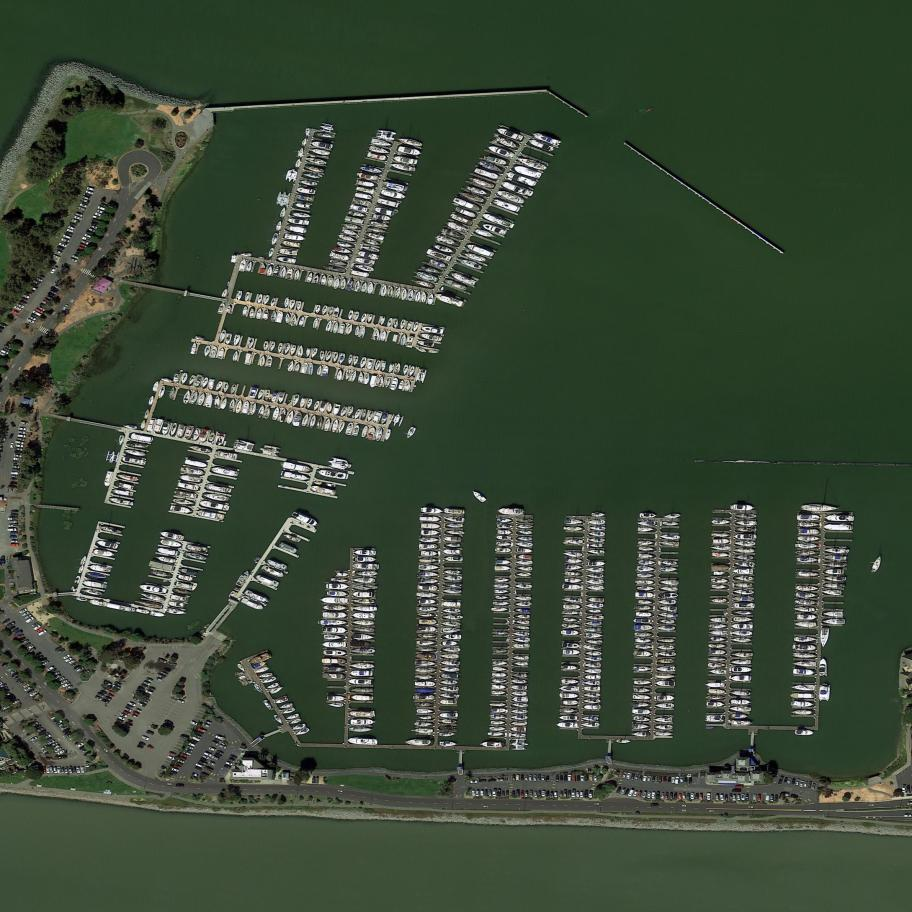ship: (500, 180, 535, 199), (505, 170, 538, 190), (515, 154, 549, 172), (448, 269, 479, 288), (495, 125, 526, 144), (511, 163, 543, 181), (291, 510, 320, 529), (481, 212, 513, 229), (433, 292, 465, 309), (495, 189, 526, 206), (465, 243, 496, 260), (487, 143, 516, 160), (453, 196, 482, 213), (243, 588, 270, 606), (531, 131, 561, 147), (492, 134, 520, 151), (491, 197, 520, 213), (455, 256, 483, 272), (326, 455, 354, 471), (414, 268, 441, 284), (527, 137, 554, 153), (477, 159, 505, 174), (468, 176, 496, 191), (282, 461, 312, 475), (281, 469, 311, 483), (459, 189, 485, 205), (448, 212, 474, 228), (239, 596, 265, 612), (317, 468, 349, 481), (198, 499, 230, 512), (249, 650, 273, 667), (461, 250, 488, 265), (426, 248, 453, 263), (195, 509, 226, 522), (260, 564, 286, 579), (265, 557, 289, 573), (481, 222, 508, 236), (137, 583, 168, 595), (474, 167, 500, 181), (800, 503, 840, 512), (234, 568, 252, 588), (380, 188, 407, 201), (445, 220, 470, 234), (255, 574, 280, 588), (410, 277, 435, 291), (433, 241, 456, 256), (443, 279, 469, 292), (393, 154, 419, 167), (474, 227, 498, 241), (435, 234, 459, 248), (397, 135, 425, 147), (211, 466, 239, 478), (204, 483, 232, 495), (381, 181, 408, 193), (202, 492, 229, 504), (440, 227, 463, 241), (233, 439, 256, 453), (869, 554, 885, 574), (391, 162, 417, 174), (357, 249, 381, 262), (258, 444, 282, 457), (310, 485, 336, 497), (137, 591, 165, 602), (465, 185, 490, 197), (398, 145, 423, 157), (133, 599, 163, 609), (214, 449, 239, 461), (455, 206, 478, 219), (159, 530, 186, 541), (278, 541, 299, 555), (471, 487, 488, 504), (484, 154, 508, 166), (376, 197, 400, 209), (360, 164, 384, 176), (275, 190, 291, 208), (420, 263, 442, 276), (329, 251, 352, 263), (366, 151, 389, 163), (160, 538, 183, 550), (420, 325, 445, 336), (82, 579, 107, 590), (121, 456, 146, 467), (389, 411, 404, 429), (419, 332, 443, 343), (353, 262, 377, 273), (357, 171, 381, 182), (354, 178, 376, 190), (185, 544, 209, 555), (181, 466, 205, 477), (107, 603, 136, 612), (428, 257, 448, 270), (370, 138, 393, 149), (96, 540, 119, 551), (414, 367, 428, 385), (87, 564, 112, 574), (107, 497, 134, 506), (366, 225, 388, 236), (369, 145, 391, 156), (336, 233, 358, 244), (157, 546, 179, 557), (177, 481, 199, 492), (175, 489, 197, 500), (819, 627, 830, 649), (284, 224, 308, 234), (284, 233, 308, 243), (352, 197, 372, 209), (282, 532, 302, 544), (348, 738, 378, 746), (184, 459, 208, 469), (130, 433, 154, 443), (353, 562, 379, 571), (355, 256, 376, 267), (365, 231, 386, 242), (376, 129, 397, 140), (341, 221, 362, 232), (155, 554, 176, 565), (311, 141, 334, 151), (287, 217, 310, 227), (184, 551, 207, 561), (111, 488, 134, 498), (117, 473, 140, 483), (179, 474, 202, 484), (124, 448, 147, 458), (169, 505, 192, 515), (323, 264, 346, 274), (497, 507, 525, 515), (284, 168, 298, 184), (314, 131, 336, 141), (306, 156, 328, 166), (374, 206, 394, 217), (348, 209, 368, 220), (101, 525, 123, 535), (150, 569, 172, 579), (114, 481, 136, 491), (172, 497, 194, 507), (102, 470, 114, 488), (126, 441, 150, 450), (319, 122, 337, 134), (819, 684, 831, 702), (296, 186, 317, 196), (276, 255, 297, 265), (332, 246, 353, 256), (350, 269, 371, 279), (105, 449, 119, 464), (824, 515, 854, 522), (509, 739, 528, 750), (355, 191, 374, 202), (322, 657, 348, 665), (322, 596, 348, 604), (404, 425, 417, 441), (93, 549, 116, 558), (318, 619, 347, 626), (824, 524, 853, 531), (281, 239, 301, 249), (279, 247, 299, 257), (372, 213, 392, 223), (370, 219, 390, 229), (356, 185, 376, 195), (88, 598, 108, 608), (322, 626, 347, 634), (348, 678, 373, 686), (309, 148, 331, 157), (304, 165, 326, 174), (302, 172, 324, 181), (82, 588, 104, 597), (189, 445, 211, 454), (214, 431, 227, 446), (731, 503, 755, 511), (323, 611, 347, 619), (183, 425, 195, 441), (329, 258, 348, 268), (362, 237, 381, 247), (361, 244, 380, 254), (404, 739, 431, 746), (176, 423, 187, 440), (191, 426, 202, 443), (294, 727, 311, 738), (734, 533, 757, 541), (323, 672, 346, 680), (480, 741, 506, 748), (321, 641, 347, 648), (350, 718, 376, 725), (341, 228, 359, 238), (336, 240, 354, 250), (165, 608, 187, 616), (199, 428, 210, 444), (153, 418, 164, 434), (353, 584, 378, 591), (323, 649, 348, 656), (349, 663, 374, 670), (792, 661, 817, 668), (350, 204, 369, 213), (180, 567, 199, 576), (292, 410, 302, 427), (555, 722, 579, 729), (353, 605, 377, 612), (792, 644, 816, 651), (791, 684, 815, 691), (160, 421, 171, 436), (188, 390, 199, 405), (417, 340, 435, 349), (730, 623, 753, 630), (353, 550, 376, 557), (353, 556, 376, 563), (353, 612, 376, 619), (351, 634, 374, 641), (420, 506, 443, 513), (352, 648, 375, 655), (350, 670, 373, 677), (351, 694, 374, 701), (300, 179, 320, 187), (172, 588, 192, 596), (170, 594, 190, 602), (367, 425, 377, 441), (374, 427, 384, 443), (286, 409, 296, 425), (291, 722, 307, 732), (268, 686, 284, 696), (413, 694, 435, 701), (414, 660, 436, 667), (729, 690, 751, 697), (731, 630, 753, 637), (730, 637, 752, 644), (417, 584, 439, 591), (419, 543, 441, 550), (323, 634, 345, 641), (794, 636, 816, 643), (373, 410, 384, 424), (193, 374, 204, 388), (275, 696, 289, 707), (263, 698, 274, 712), (176, 581, 193, 590), (351, 598, 376, 604), (349, 711, 374, 717), (349, 726, 374, 732), (291, 393, 301, 408), (169, 422, 179, 437), (379, 411, 389, 426), (330, 418, 340, 433), (182, 390, 192, 405), (204, 393, 214, 408), (824, 548, 849, 554), (218, 329, 228, 344), (792, 652, 817, 658), (790, 693, 815, 699), (389, 377, 399, 392), (262, 676, 277, 686), (736, 520, 757, 527), (799, 528, 820, 535), (734, 561, 755, 568), (732, 568, 753, 575), (732, 651, 753, 658), (419, 564, 440, 571), (291, 212, 312, 219), (86, 572, 107, 579), (793, 669, 814, 676), (823, 611, 844, 618), (795, 585, 819, 591), (296, 194, 314, 202), (350, 687, 374, 693), (326, 584, 350, 590), (793, 622, 817, 628), (823, 555, 847, 561), (819, 659, 827, 677), (254, 666, 270, 675), (314, 364, 325, 377), (273, 713, 284, 726), (253, 682, 264, 695), (445, 516, 465, 523), (416, 653, 436, 660), (581, 722, 601, 729), (420, 529, 440, 536), (405, 335, 415, 349), (797, 614, 817, 621), (824, 568, 844, 575), (286, 359, 296, 373), (368, 375, 378, 389), (358, 356, 368, 370), (209, 345, 219, 359), (729, 706, 752, 712), (729, 720, 752, 726), (797, 515, 820, 521), (798, 536, 821, 542), (796, 543, 819, 549), (795, 592, 818, 598), (794, 600, 817, 606), (731, 596, 754, 602), (324, 604, 347, 610), (793, 606, 816, 612), (825, 562, 848, 568), (790, 701, 813, 707), (822, 619, 845, 625), (168, 601, 185, 609), (301, 412, 310, 427), (272, 406, 281, 421), (278, 408, 287, 423), (285, 712, 300, 721), (281, 707, 296, 716), (279, 702, 294, 711), (512, 643, 531, 650), (561, 642, 580, 649), (562, 649, 581, 656), (564, 551, 583, 558), (708, 689, 727, 696), (705, 715, 724, 722), (732, 675, 751, 682), (660, 592, 679, 599), (632, 709, 651, 716), (823, 589, 842, 596), (417, 592, 439, 598), (796, 557, 818, 563), (659, 534, 681, 540), (353, 627, 375, 633), (353, 620, 375, 626), (324, 666, 346, 672), (245, 260, 255, 273), (414, 345, 427, 355), (248, 386, 258, 399), (172, 371, 182, 384), (300, 361, 310, 374), (321, 365, 331, 378), (295, 202, 311, 210), (177, 574, 193, 582), (258, 672, 274, 680), (515, 541, 533, 548), (561, 664, 579, 671), (444, 508, 465, 514), (446, 529, 464, 536), (443, 556, 464, 562), (442, 575, 463, 581), (417, 626, 438, 632), (443, 627, 461, 634), (439, 699, 457, 706), (736, 513, 757, 519), (655, 673, 676, 679), (655, 681, 676, 687), (735, 527, 756, 533), (735, 541, 756, 547), (734, 589, 755, 595), (583, 704, 601, 711), (587, 597, 605, 604), (419, 516, 440, 522), (327, 590, 348, 596), (372, 328, 381, 342), (353, 407, 362, 421), (345, 422, 354, 436), (361, 425, 370, 439), (158, 385, 167, 399), (197, 392, 206, 406), (242, 400, 251, 414), (249, 402, 258, 416), (247, 336, 256, 350), (296, 344, 305, 358), (825, 576, 846, 582), (791, 709, 812, 715), (824, 582, 845, 588), (349, 369, 358, 383), (217, 346, 226, 360), (253, 661, 267, 670), (270, 233, 279, 247), (560, 686, 580, 692), (559, 693, 579, 699), (559, 700, 579, 706), (563, 597, 583, 603), (562, 584, 582, 590), (564, 519, 584, 525), (443, 588, 463, 594), (416, 647, 436, 653), (415, 681, 435, 687), (441, 601, 461, 607), (440, 660, 460, 666), (708, 630, 728, 636), (708, 643, 728, 649), (655, 703, 675, 709), (711, 532, 731, 538), (731, 659, 751, 665), (656, 666, 676, 672), (585, 567, 605, 573), (658, 567, 678, 573), (657, 606, 677, 612), (658, 612, 678, 618), (634, 625, 654, 631), (352, 578, 376, 583), (420, 523, 440, 529), (235, 399, 243, 414), (257, 404, 265, 419), (731, 713, 748, 720), (239, 259, 248, 272), (400, 288, 409, 301), (279, 266, 288, 279), (366, 282, 375, 295), (311, 317, 320, 330), (345, 323, 354, 336), (257, 388, 266, 401), (319, 401, 328, 414), (366, 410, 375, 423), (220, 397, 229, 410), (233, 334, 242, 347), (335, 369, 344, 382), (356, 371, 365, 384), (337, 353, 346, 366), (366, 358, 375, 371), (393, 362, 402, 375), (217, 302, 226, 315), (79, 554, 88, 567), (796, 550, 819, 555), (796, 572, 819, 577), (732, 603, 755, 608), (355, 571, 378, 576), (512, 637, 531, 643), (489, 714, 508, 720), (559, 715, 578, 721), (564, 525, 583, 531), (565, 558, 584, 564), (564, 564, 583, 570), (417, 633, 436, 639), (440, 673, 459, 679), (439, 712, 458, 718), (708, 649, 727, 655), (708, 662, 727, 668), (708, 669, 727, 675), (707, 695, 726, 701), (706, 701, 725, 707), (654, 725, 673, 731), (713, 519, 732, 525), (711, 538, 730, 544), (711, 552, 730, 558), (735, 575, 754, 581), (733, 617, 752, 623), (584, 656, 603, 662), (586, 579, 605, 585), (586, 585, 605, 591), (586, 603, 605, 609), (633, 666, 652, 672), (420, 537, 439, 543), (331, 577, 350, 583), (796, 730, 815, 736), (638, 526, 654, 533), (150, 611, 166, 618), (316, 416, 324, 430), (324, 417, 332, 431), (309, 414, 317, 428), (283, 342, 291, 356), (122, 423, 138, 430), (266, 682, 280, 690), (411, 728, 433, 733), (562, 623, 580, 629), (561, 679, 579, 685), (446, 523, 464, 529), (443, 549, 461, 555), (417, 640, 435, 646), (710, 584, 728, 590), (657, 695, 675, 701), (584, 668, 602, 674), (583, 686, 601, 692), (583, 692, 601, 698), (582, 716, 600, 722), (640, 512, 658, 518), (584, 663, 602, 669), (586, 615, 604, 621), (584, 627, 602, 633), (638, 566, 656, 572), (631, 724, 649, 730), (664, 513, 682, 519), (661, 560, 679, 566), (632, 731, 650, 737), (636, 592, 654, 598), (633, 702, 651, 708), (345, 279, 354, 291), (327, 696, 345, 702), (420, 551, 438, 557), (353, 325, 362, 337), (320, 304, 329, 316), (379, 330, 388, 342), (277, 392, 286, 404), (298, 397, 307, 409), (147, 420, 156, 432), (142, 408, 151, 420), (403, 380, 412, 392), (307, 363, 316, 375), (265, 356, 274, 368), (231, 350, 240, 362), (267, 247, 276, 259), (443, 615, 464, 620), (798, 522, 819, 527), (731, 700, 752, 705), (734, 548, 755, 553), (731, 667, 752, 672), (659, 541, 680, 546), (418, 572, 439, 577), (136, 608, 151, 615), (427, 293, 435, 306), (273, 265, 281, 278), (333, 277, 341, 290), (353, 280, 361, 293), (255, 307, 263, 320), (399, 333, 407, 346), (263, 389, 271, 402), (229, 382, 237, 395), (208, 430, 216, 443), (222, 381, 230, 394), (338, 421, 346, 434), (168, 386, 176, 399), (213, 395, 221, 408), (228, 398, 236, 411), (289, 718, 302, 726), (296, 147, 304, 160), (515, 583, 532, 589), (489, 726, 506, 732), (512, 697, 529, 703), (511, 721, 528, 727), (416, 674, 433, 680), (710, 636, 727, 642), (655, 717, 672, 723), (583, 680, 600, 686), (639, 520, 656, 526), (584, 675, 601, 681), (588, 561, 605, 567), (585, 621, 602, 627), (635, 644, 652, 650), (635, 651, 652, 657), (414, 722, 434, 727), (443, 582, 463, 587), (418, 606, 438, 611), (416, 667, 436, 672), (350, 642, 370, 647), (440, 667, 460, 672), (711, 545, 731, 550), (582, 699, 602, 704), (419, 579, 439, 584), (352, 592, 372, 597), (237, 662, 246, 673), (513, 655, 529, 661), (511, 685, 527, 691), (492, 672, 508, 678), (491, 606, 507, 612), (589, 531, 605, 537), (636, 612, 652, 618), (394, 287, 402, 299), (407, 290, 415, 302), (387, 286, 395, 298), (259, 263, 267, 275), (380, 285, 388, 297), (286, 268, 294, 280), (307, 272, 315, 284), (320, 274, 328, 286), (340, 278, 348, 290), (360, 281, 368, 293), (338, 323, 346, 335), (325, 320, 333, 332), (276, 311, 284, 323), (262, 309, 270, 321), (332, 321, 340, 333), (332, 404, 340, 416), (347, 405, 355, 417), (360, 409, 368, 421), (180, 373, 188, 385), (188, 374, 196, 386), (201, 377, 209, 389), (215, 380, 223, 392), (352, 424, 360, 436), (384, 429, 392, 441), (152, 380, 160, 392), (225, 333, 233, 345), (262, 339, 270, 351), (277, 342, 285, 354), (311, 347, 319, 359), (363, 373, 371, 385), (376, 376, 384, 388), (245, 353, 253, 365), (352, 355, 360, 367), (408, 365, 416, 377), (279, 207, 287, 219), (275, 220, 283, 232), (563, 604, 582, 609), (587, 520, 606, 525), (565, 539, 584, 544), (443, 608, 462, 613), (418, 620, 437, 625), (416, 688, 435, 693), (438, 741, 457, 746), (442, 621, 461, 626), (439, 693, 458, 698), (708, 624, 727, 629), (655, 732, 674, 737), (658, 652, 677, 657), (584, 633, 603, 638), (660, 580, 679, 585), (660, 586, 679, 591), (658, 599, 677, 604), (294, 269, 301, 282), (327, 275, 334, 288), (160, 377, 173, 384), (204, 345, 211, 358), (514, 631, 529, 637), (490, 708, 508, 713), (559, 708, 577, 713), (510, 727, 528, 732), (511, 732, 526, 738), (564, 578, 582, 583), (415, 702, 433, 707), (443, 647, 461, 652), (440, 680, 458, 685), (710, 617, 725, 623), (711, 578, 729, 583), (711, 565, 729, 570), (657, 659, 675, 664), (735, 555, 753, 560), (734, 610, 752, 615), (614, 739, 632, 744), (638, 553, 653, 559), (638, 560, 656, 565), (585, 639, 603, 644), (584, 646, 602, 651), (657, 645, 675, 650), (660, 619, 675, 625), (657, 626, 675, 631), (638, 599, 653, 605), (635, 605, 653, 610), (634, 619, 652, 624), (633, 695, 651, 700), (74, 597, 89, 603), (420, 292, 428, 303), (386, 317, 394, 328), (366, 313, 374, 324), (360, 313, 368, 324), (313, 274, 321, 285), (263, 295, 271, 306), (256, 293, 264, 304), (243, 291, 251, 302), (359, 327, 367, 338), (221, 287, 229, 298), (312, 400, 320, 411), (340, 406, 348, 417), (147, 395, 155, 406), (269, 341, 277, 352), (290, 345, 298, 356), (324, 351, 332, 362), (259, 356, 267, 367), (384, 377, 392, 388), (332, 352, 340, 363), (387, 363, 395, 374), (516, 566, 533, 571), (514, 596, 531, 601), (515, 602, 532, 607), (516, 560, 533, 565), (491, 685, 508, 690), (562, 630, 579, 635), (511, 709, 528, 714), (511, 715, 528, 720), (565, 571, 582, 576), (416, 709, 433, 714), (444, 537, 461, 542), (419, 599, 436, 604), (444, 634, 461, 639), (441, 719, 458, 724), (710, 598, 727, 603), (707, 683, 724, 688), (588, 549, 605, 554), (638, 547, 655, 552), (637, 573, 654, 578), (587, 573, 604, 578), (586, 651, 603, 656), (637, 580, 654, 585), (658, 639, 675, 644), (634, 717, 651, 722), (637, 586, 654, 591), (635, 632, 652, 637), (635, 638, 652, 643), (634, 680, 651, 685), (633, 688, 650, 693), (415, 291, 422, 303), (266, 265, 273, 277), (353, 311, 360, 323), (333, 306, 340, 318), (291, 314, 298, 326), (270, 310, 277, 322), (194, 335, 206, 342), (271, 391, 278, 403), (264, 407, 271, 419), (374, 360, 381, 372), (402, 364, 409, 376), (191, 342, 198, 354), (512, 673, 528, 678), (492, 678, 508, 683), (517, 518, 533, 523), (517, 524, 533, 529), (511, 679, 527, 684), (511, 691, 527, 696), (512, 703, 528, 708), (492, 667, 508, 672), (492, 648, 508, 653), (589, 538, 605, 543), (493, 631, 509, 636), (495, 566, 511, 571), (494, 578, 510, 583), (494, 589, 510, 594), (493, 601, 509, 606), (439, 654, 459, 658), (663, 521, 679, 526), (327, 703, 343, 708), (248, 308, 256, 318), (269, 297, 277, 307), (191, 582, 199, 592), (590, 512, 606, 517), (230, 254, 238, 264), (294, 158, 302, 168), (301, 137, 309, 147), (77, 565, 85, 575), (413, 321, 420, 332), (400, 319, 407, 330), (393, 318, 400, 329), (299, 316, 306, 327), (284, 313, 291, 324), (226, 303, 233, 314), (306, 398, 313, 409), (318, 350, 325, 361), (344, 370, 351, 381), (380, 361, 387, 372), (139, 419, 146, 430), (442, 570, 461, 574), (440, 687, 459, 691), (708, 657, 727, 661), (516, 572, 531, 577), (515, 614, 530, 619), (515, 620, 530, 625), (513, 662, 528, 667), (517, 548, 532, 553), (491, 720, 506, 725), (517, 536, 532, 541), (493, 660, 508, 665), (445, 543, 460, 548), (496, 535, 511, 540), (495, 584, 510, 589), (443, 641, 458, 646), (589, 543, 604, 548), (587, 609, 602, 614), (438, 732, 456, 736), (735, 583, 753, 587), (419, 558, 437, 562), (325, 482, 337, 488), (518, 555, 532, 560), (518, 530, 532, 535), (418, 715, 432, 720), (498, 530, 512, 535), (406, 321, 413, 331), (380, 316, 387, 326), (347, 310, 354, 320), (328, 306, 335, 316), (241, 306, 248, 316), (315, 304, 322, 314), (296, 301, 303, 311), (289, 300, 296, 310), (283, 298, 290, 308), (208, 380, 215, 390), (398, 380, 405, 390), (488, 732, 505, 736), (589, 526, 606, 530), (562, 611, 579, 615), (439, 726, 456, 730), (118, 435, 124, 446), (305, 347, 311, 358), (347, 354, 353, 365), (240, 252, 253, 257), (490, 703, 506, 707), (497, 524, 513, 528), (496, 548, 512, 552), (495, 560, 511, 564), (497, 518, 513, 522), (638, 541, 654, 545), (228, 590, 235, 599), (294, 363, 301, 372), (304, 128, 311, 137), (74, 575, 81, 584), (516, 608, 531, 612), (515, 626, 530, 630), (563, 618, 578, 622), (418, 613, 433, 617), (496, 542, 511, 546), (237, 291, 243, 301), (327, 403, 333, 413), (495, 595, 509, 599), (492, 691, 505, 695), (222, 440, 228, 448), (238, 674, 246, 680), (335, 573, 350, 576), (428, 350, 439, 354), (647, 106, 653, 113), (705, 726, 715, 730), (713, 572, 725, 575), (440, 286, 445, 292), (227, 282, 231, 287)
small-vehicle: (24, 615, 35, 625), (49, 265, 59, 276), (157, 656, 168, 665), (214, 734, 226, 742), (37, 629, 47, 638), (57, 748, 66, 757), (54, 672, 63, 681), (11, 698, 20, 707), (75, 666, 85, 674), (23, 685, 33, 693), (59, 678, 69, 686), (28, 690, 38, 698), (56, 648, 66, 656), (18, 607, 28, 615), (32, 624, 42, 632), (21, 682, 31, 690), (139, 698, 149, 706), (77, 669, 87, 677), (83, 750, 93, 758), (49, 714, 59, 722), (80, 746, 90, 754), (78, 744, 88, 752), (627, 788, 635, 798), (8, 668, 18, 676), (29, 281, 39, 289), (144, 689, 155, 696), (20, 293, 31, 300), (62, 653, 71, 661), (62, 681, 71, 689), (54, 746, 63, 754), (141, 734, 150, 742), (1, 660, 10, 668), (13, 673, 22, 681), (54, 645, 63, 653), (73, 663, 82, 671), (96, 691, 105, 699), (44, 750, 53, 758), (18, 679, 27, 687), (45, 294, 54, 302), (40, 300, 49, 308), (6, 621, 15, 629), (35, 654, 44, 662), (64, 684, 74, 691), (75, 742, 85, 749), (204, 766, 214, 773), (162, 667, 172, 674), (167, 661, 177, 668), (156, 673, 166, 680), (142, 692, 152, 699), (200, 771, 210, 778), (195, 729, 205, 736), (32, 310, 42, 317), (18, 300, 28, 307), (85, 189, 95, 196), (78, 242, 88, 249), (58, 242, 68, 249), (97, 205, 107, 212), (49, 667, 57, 675), (31, 721, 39, 729), (33, 651, 41, 659), (41, 660, 50, 667), (29, 736, 38, 743), (64, 656, 73, 663), (178, 755, 187, 762), (21, 610, 30, 617), (35, 627, 44, 634), (203, 719, 212, 726), (184, 747, 193, 754), (117, 715, 126, 722), (145, 677, 154, 684), (142, 680, 151, 687), (127, 701, 136, 708), (126, 704, 135, 711), (119, 712, 128, 719), (148, 686, 157, 693), (137, 686, 146, 693), (114, 681, 123, 688), (112, 684, 121, 691), (104, 681, 113, 688), (94, 695, 103, 702), (34, 724, 43, 731), (35, 726, 44, 733), (57, 721, 66, 728), (54, 719, 63, 726), (145, 730, 154, 737), (180, 734, 189, 741), (40, 732, 49, 739), (43, 734, 52, 741), (52, 744, 61, 751), (49, 741, 58, 748), (63, 730, 72, 737), (69, 735, 78, 742), (211, 740, 220, 747), (26, 688, 35, 695), (15, 677, 24, 684), (16, 303, 25, 310), (11, 309, 20, 316), (32, 279, 41, 286), (19, 296, 28, 303), (47, 292, 56, 299), (30, 313, 39, 320), (5, 341, 14, 348), (3, 344, 12, 351), (11, 672, 20, 679), (6, 666, 15, 673), (28, 285, 37, 292), (24, 290, 33, 297), (50, 286, 59, 293), (37, 274, 46, 281), (170, 767, 180, 773), (137, 702, 147, 708), (123, 707, 133, 713), (193, 733, 203, 739), (197, 727, 207, 733), (169, 770, 179, 776), (201, 754, 211, 760), (198, 761, 208, 767), (218, 744, 228, 750), (26, 318, 36, 324), (92, 218, 102, 224), (90, 221, 100, 227), (89, 224, 99, 230), (82, 236, 92, 242), (73, 215, 83, 221), (62, 234, 72, 240), (60, 238, 70, 244), (51, 254, 61, 260), (80, 240, 90, 246), (77, 206, 87, 212), (68, 658, 76, 665), (46, 665, 54, 672), (24, 613, 32, 620), (132, 710, 140, 717), (190, 720, 198, 727), (188, 742, 196, 749), (134, 707, 142, 714), (58, 676, 66, 683), (108, 689, 116, 696), (104, 695, 112, 702), (70, 661, 78, 668), (100, 689, 108, 696), (126, 718, 134, 725), (191, 771, 199, 778), (59, 725, 67, 732), (38, 730, 46, 737), (47, 739, 55, 746), (40, 745, 48, 752), (42, 748, 50, 755), (624, 788, 631, 796), (632, 790, 639, 798), (794, 778, 801, 786), (208, 760, 216, 767), (625, 772, 632, 780), (29, 315, 37, 322), (10, 421, 17, 429), (43, 297, 51, 304), (39, 303, 47, 310), (62, 303, 69, 311), (2, 618, 10, 625), (12, 627, 20, 634), (18, 636, 26, 643), (28, 646, 36, 653), (39, 657, 47, 664), (164, 719, 173, 725), (202, 722, 211, 728), (192, 736, 201, 742), (185, 745, 194, 751), (182, 750, 191, 756), (180, 753, 189, 759), (175, 761, 184, 767), (173, 764, 182, 770), (122, 710, 131, 716), (215, 749, 224, 755), (52, 671, 61, 677), (160, 671, 169, 677), (140, 683, 149, 689), (101, 698, 110, 704), (115, 718, 124, 724), (44, 737, 53, 743), (62, 727, 71, 733), (65, 733, 74, 739), (160, 766, 169, 772), (167, 755, 176, 761), (204, 752, 213, 758), (778, 776, 784, 785), (790, 794, 799, 800), (195, 763, 204, 769), (225, 761, 234, 767), (223, 764, 232, 770), (630, 773, 636, 782), (35, 308, 44, 314), (0, 349, 9, 355), (13, 305, 22, 311), (37, 306, 46, 312), (86, 186, 95, 192), (79, 202, 88, 208), (86, 231, 95, 237), (84, 233, 93, 239), (77, 248, 86, 254), (95, 212, 104, 218), (56, 245, 65, 251), (55, 249, 64, 255), (67, 225, 76, 231), (64, 231, 73, 237), (69, 257, 78, 263), (780, 792, 790, 797), (15, 440, 25, 445), (11, 468, 21, 473), (92, 215, 102, 220), (147, 744, 154, 751), (24, 641, 31, 648), (26, 644, 34, 650), (228, 757, 236, 763), (200, 757, 208, 763), (177, 759, 185, 765), (130, 713, 138, 719), (190, 739, 198, 745), (106, 693, 114, 699), (4, 664, 12, 670), (101, 687, 109, 693), (124, 722, 132, 728), (137, 744, 145, 750), (208, 746, 216, 752), (616, 786, 622, 794), (621, 787, 627, 795), (636, 791, 642, 799), (641, 791, 647, 799), (655, 792, 661, 800), (790, 778, 796, 786), (799, 780, 805, 788), (803, 780, 809, 788), (811, 782, 817, 790), (211, 755, 219, 761), (571, 790, 577, 798), (621, 771, 627, 779), (651, 775, 657, 783), (593, 775, 599, 783), (567, 774, 573, 782), (49, 290, 57, 296), (3, 347, 11, 353), (35, 277, 43, 283), (14, 630, 22, 636), (16, 633, 24, 639), (21, 639, 29, 645), (0, 556, 6, 564), (7, 517, 19, 521), (82, 195, 90, 201), (75, 212, 83, 218), (88, 227, 96, 233), (75, 251, 83, 257), (72, 254, 80, 260), (97, 209, 105, 215), (71, 218, 79, 224), (229, 755, 238, 760), (194, 766, 203, 771), (155, 677, 164, 682), (58, 755, 67, 760), (675, 776, 680, 785), (16, 437, 25, 442), (14, 447, 23, 452), (13, 460, 22, 465), (10, 471, 19, 476), (66, 228, 75, 233), (8, 524, 19, 528), (31, 622, 38, 628), (681, 792, 687, 799), (646, 792, 652, 799), (634, 774, 640, 781), (8, 433, 14, 440), (85, 761, 90, 769), (213, 738, 221, 743), (177, 699, 185, 704), (175, 783, 185, 787), (690, 792, 695, 800), (698, 793, 703, 801), (732, 794, 737, 802), (757, 794, 762, 802), (774, 794, 779, 802), (669, 792, 674, 800), (651, 792, 656, 800), (664, 792, 669, 800), (787, 777, 792, 785), (807, 781, 812, 789), (732, 789, 742, 793), (484, 789, 489, 797), (492, 789, 497, 797), (497, 789, 502, 797), (647, 775, 652, 783), (580, 775, 585, 783), (537, 790, 542, 798), (546, 790, 551, 798), (533, 774, 538, 782), (13, 451, 23, 455), (13, 454, 23, 458), (13, 457, 23, 461), (10, 477, 18, 482), (7, 528, 17, 532), (81, 198, 89, 203), (79, 246, 87, 251), (84, 193, 92, 198), (43, 757, 52, 761), (740, 795, 746, 801), (903, 814, 912, 818), (469, 780, 478, 784), (20, 421, 29, 425), (18, 427, 27, 431), (17, 434, 26, 438), (10, 543, 19, 547), (12, 465, 21, 469), (80, 766, 85, 773), (72, 767, 77, 774), (76, 767, 81, 774), (68, 767, 73, 774), (64, 767, 69, 774), (41, 767, 46, 774), (678, 793, 683, 800), (685, 793, 690, 800), (706, 793, 711, 800), (679, 776, 684, 783), (688, 777, 693, 784), (660, 792, 665, 799), (471, 790, 476, 797), (479, 790, 484, 797), (559, 775, 564, 782), (520, 790, 525, 797), (533, 791, 538, 798), (580, 791, 585, 798), (638, 775, 643, 782), (642, 776, 647, 783), (657, 776, 662, 783), (554, 791, 559, 798), (559, 791, 564, 798), (536, 775, 541, 782), (9, 442, 14, 449), (57, 766, 61, 774), (53, 766, 57, 774), (902, 785, 906, 793), (907, 784, 911, 792), (497, 778, 505, 782), (663, 775, 667, 783), (529, 790, 533, 798), (563, 790, 567, 798), (18, 431, 26, 435), (15, 444, 23, 448), (10, 539, 18, 543), (10, 481, 18, 485), (10, 531, 18, 535), (734, 785, 744, 788), (783, 777, 788, 783), (667, 777, 672, 783), (505, 791, 510, 797), (588, 792, 593, 798), (528, 775, 533, 781), (541, 776, 546, 782), (49, 766, 53, 773), (46, 767, 50, 774), (695, 793, 699, 800), (715, 794, 719, 801), (725, 794, 729, 801), (745, 794, 749, 801), (753, 794, 757, 801), (674, 793, 678, 800), (684, 776, 688, 783), (770, 795, 774, 802), (671, 777, 675, 784), (585, 775, 589, 782), (476, 790, 480, 797), (488, 790, 492, 797), (516, 790, 520, 797), (585, 790, 589, 797), (546, 775, 550, 782), (555, 775, 559, 782), (576, 791, 580, 798), (572, 775, 576, 782), (512, 775, 516, 782), (516, 774, 520, 781), (524, 775, 528, 782), (10, 535, 17, 539), (8, 486, 17, 489), (10, 510, 19, 513), (10, 514, 19, 517), (720, 795, 724, 801), (737, 795, 741, 801), (512, 791, 516, 797), (576, 775, 580, 781), (564, 775, 568, 781), (479, 779, 487, 782), (488, 779, 496, 782), (525, 791, 529, 797), (568, 791, 572, 797), (542, 791, 546, 797), (11, 475, 19, 478), (729, 794, 732, 801), (521, 774, 524, 781), (551, 791, 554, 797), (502, 791, 505, 796), (62, 768, 64, 774)
